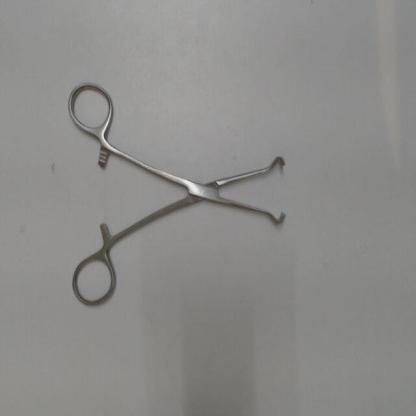Babcock Tissue Forceps: (64, 74, 291, 317)
